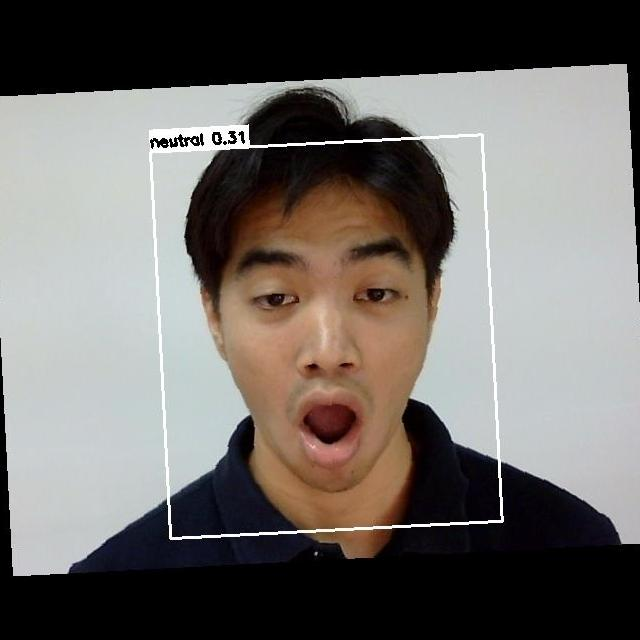Surprised: (202, 220, 454, 474)
